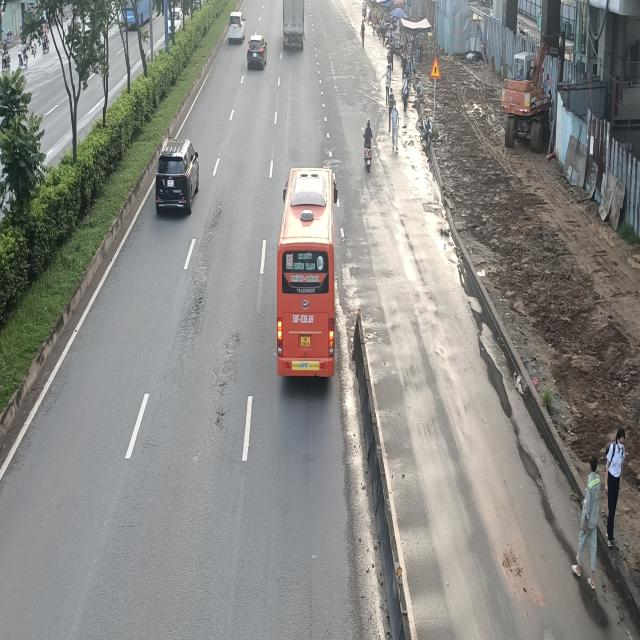car: (153, 142, 199, 219), (246, 33, 267, 70), (228, 12, 247, 45)
coach: (275, 171, 339, 386)
truck: (282, 0, 306, 50)
